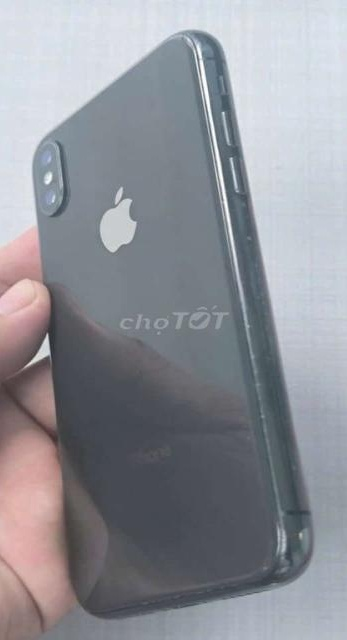scratch: (233, 319, 278, 440), (124, 575, 244, 614), (244, 559, 275, 583), (288, 453, 307, 488), (243, 259, 268, 277), (237, 230, 259, 246)
